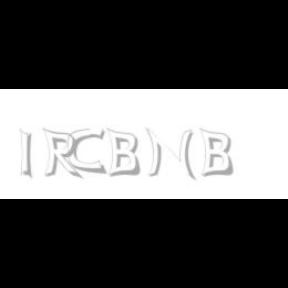B: (106, 128, 140, 178), (199, 128, 233, 178)
C: (68, 128, 104, 174)
I: (20, 128, 34, 180)
N: (144, 128, 194, 180)
R: (42, 128, 80, 180)
